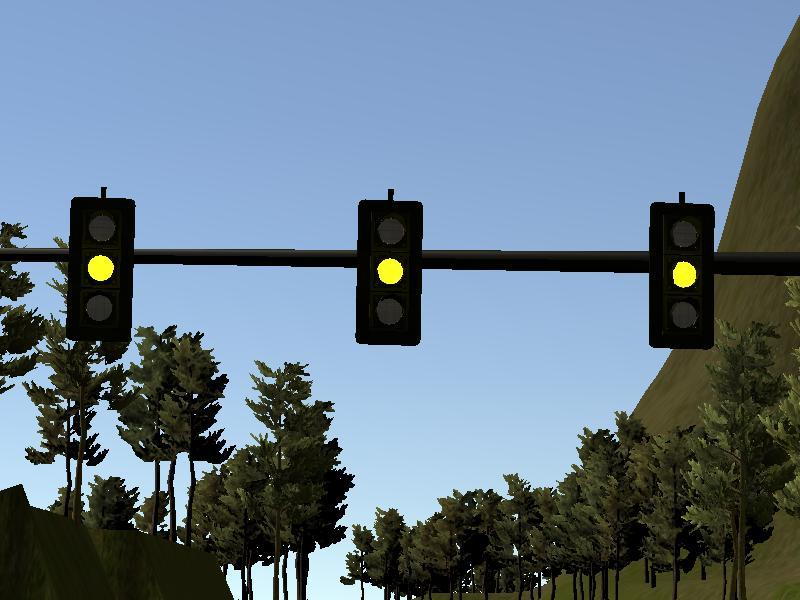Yellow: (648, 203, 714, 348), (357, 200, 422, 345), (69, 197, 133, 339)
